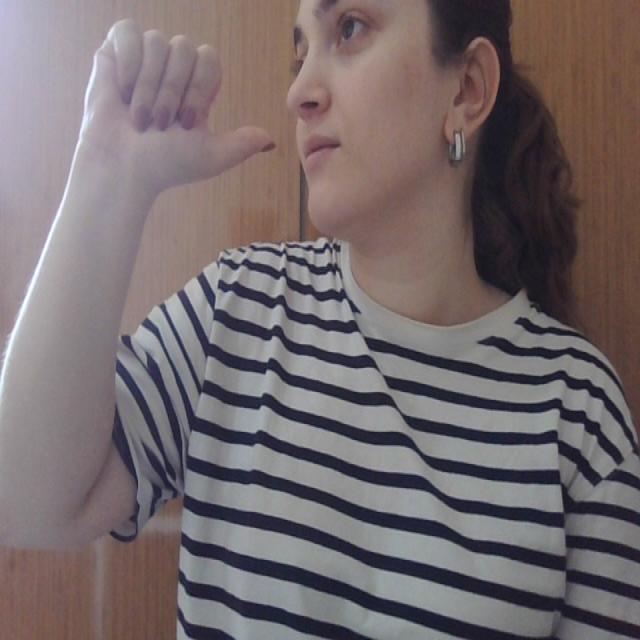icmek: (16, 13, 323, 177)
